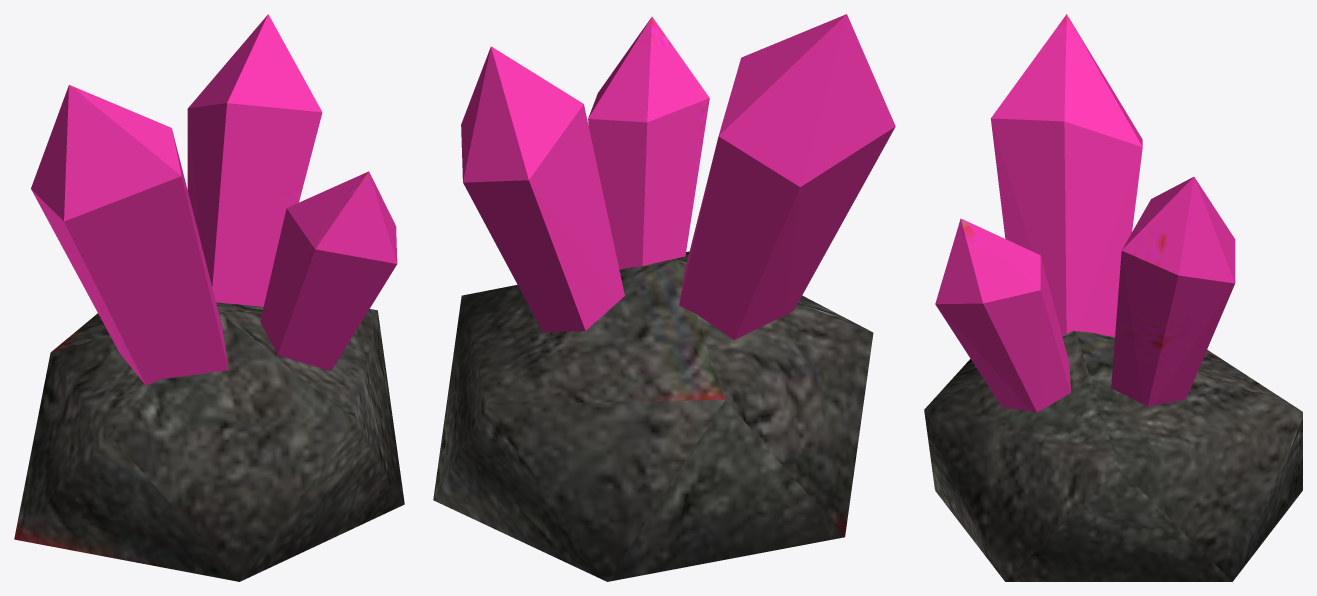
File: PinkCrystal.fbx
3 renders of one model, left to right at view 1: azimuth 30°, elevation 25°; view 2: azimuth 150°, elevation 25°; view 3: azimuth 270°, elevation 25°, orthographic. The views are drawn at different scales.
Visible parts, largest first — view 1: Crystal; view 2: Crystal; view 3: Crystal.
Boxes of the visible parts, x1=… form: Crystal: x1=14, y1=14, x2=404, y2=581; Crystal: x1=433, y1=14, x2=895, y2=581; Crystal: x1=924, y1=14, x2=1302, y2=581.
Size of the model in its own units: 0.1484 by 0.2061 by 0.1453.
Materials: 1 (1 with a texture image).
